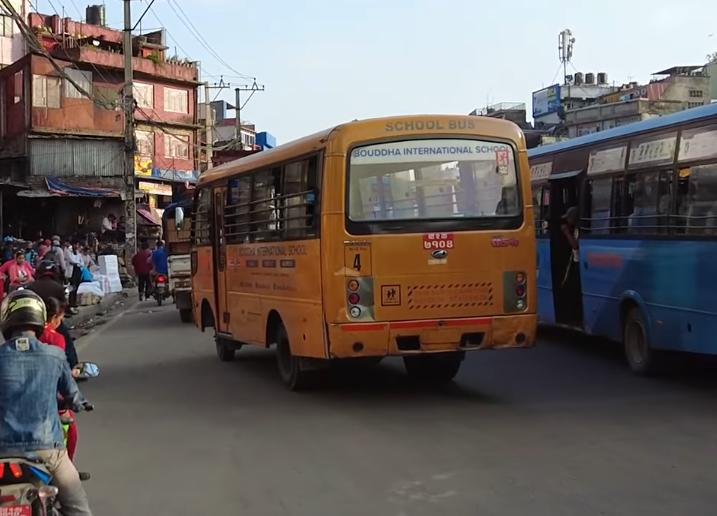bike: (0, 358, 105, 516)
bus: (526, 96, 717, 380)
school_bus: (181, 109, 544, 389)
